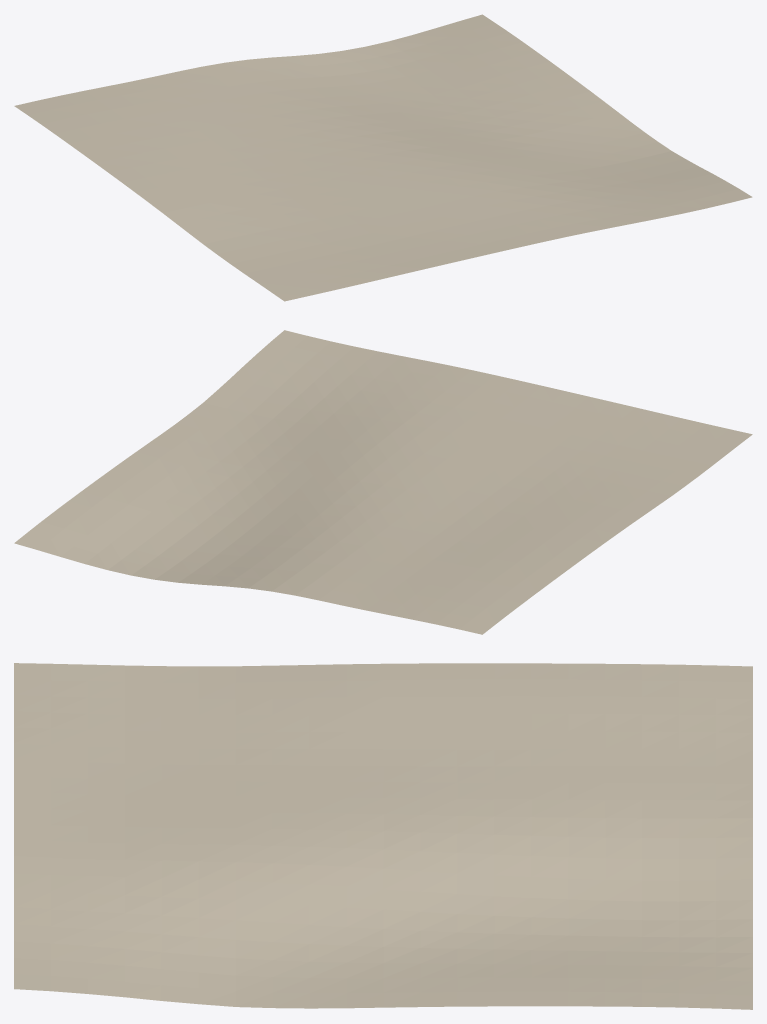
Rendered from bolak_-37_-6.glb.
3 renders of one model, top to bottom at view 1: azimuth 30°, elevation 25°; view 2: azimuth 150°, elevation 25°; view 3: azimuth 270°, elevation 25°, orthographic. The views are drawn at different scales.
Visible parts, largest first — view 1: Yer_Tuproq-col; view 2: Yer_Tuproq-col; view 3: Yer_Tuproq-col.
Boxes of the visible parts, box(x1,y1,x2,y2) form: Yer_Tuproq-col: box(14, 14, 752, 301); Yer_Tuproq-col: box(14, 330, 752, 634); Yer_Tuproq-col: box(14, 663, 752, 1009).
Bounding box in the file's own units: 400 × 23.9 × 400.
